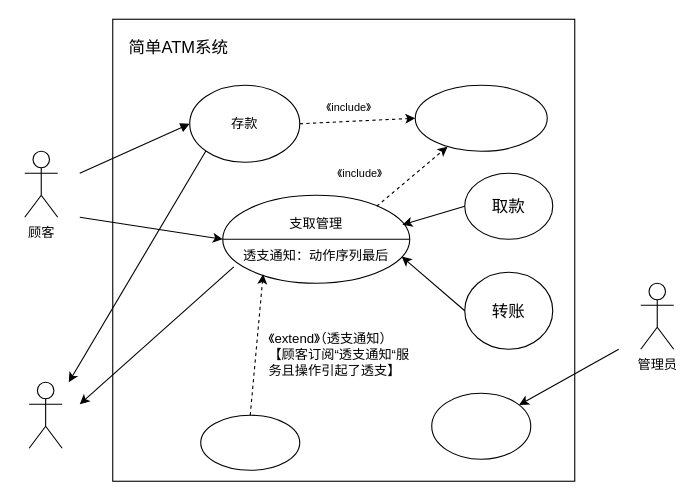
This 696x501 diagram has some shape labels left out. Each missing label, with the box of its shape:
维护: (431, 392, 531, 459)
通知透支: (200, 414, 300, 470)
银行系统: (28, 381, 62, 448)
验证顾客: (414, 84, 547, 151)
